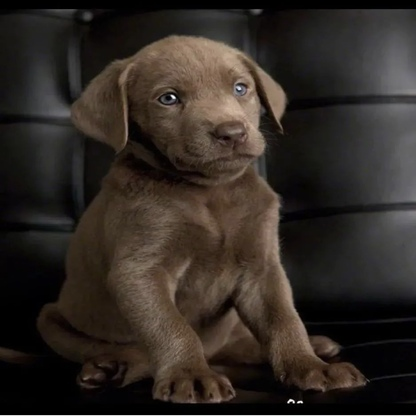labrado: (26, 30, 375, 406)
